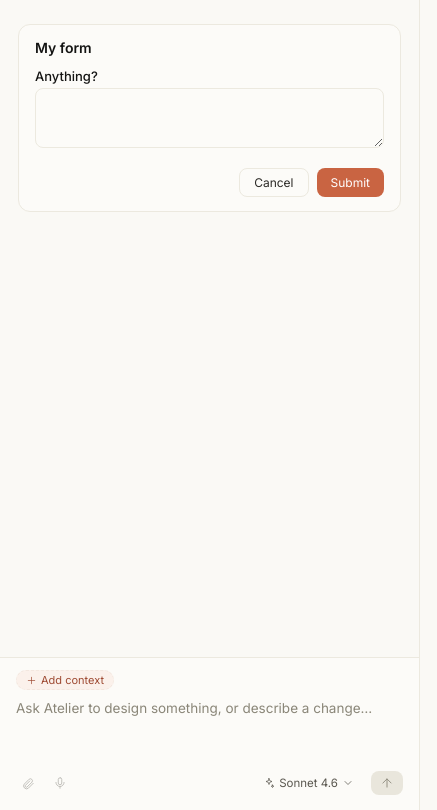
Test: ChatPanel › questions_v2 form wiring › submit unmounts the form (handledToolCallIds gates re-render)
The image size is (437, 810).
Type "no thanks" into the text box named "Anything?". click: (210, 118)
box: [35, 88, 384, 148]
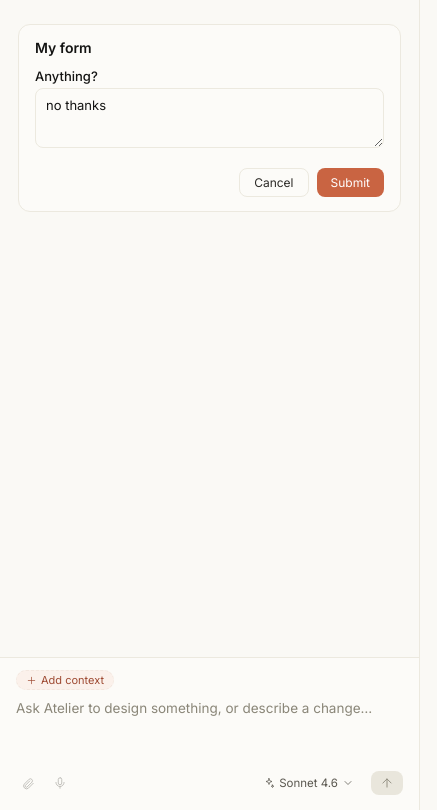
Click the button "Submit". click: (350, 182)
box: [316, 168, 384, 197]
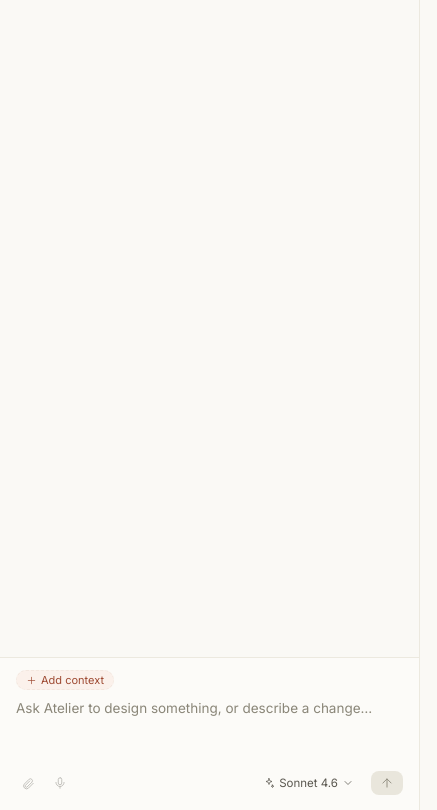
Check: the heading "My form" is gone
Check: the button "Submit" is gone
